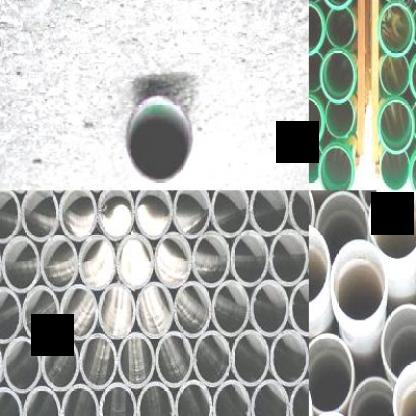pipe: (125, 94, 192, 186), (330, 240, 388, 324), (315, 192, 370, 268), (309, 333, 355, 414), (368, 190, 416, 262), (380, 302, 416, 379), (230, 230, 269, 288), (270, 330, 309, 387), (269, 229, 308, 286), (193, 330, 231, 387), (22, 286, 60, 342), (174, 282, 212, 338), (212, 280, 250, 336), (2, 236, 40, 292), (192, 232, 230, 288), (80, 333, 117, 390), (377, 2, 415, 57), (155, 332, 193, 387), (154, 233, 192, 288), (4, 336, 41, 392), (42, 335, 79, 391), (232, 330, 269, 386), (60, 284, 97, 340), (117, 334, 155, 388), (98, 284, 136, 338), (137, 283, 174, 338), (41, 235, 78, 290), (116, 234, 153, 289), (320, 48, 356, 104), (348, 376, 398, 416), (251, 282, 288, 336), (379, 100, 415, 155), (79, 235, 115, 290), (59, 191, 97, 242), (21, 191, 58, 242), (135, 191, 173, 240), (98, 190, 135, 240), (250, 190, 288, 237), (174, 190, 211, 238), (318, 142, 354, 191), (212, 190, 249, 237), (309, 224, 330, 306), (174, 379, 212, 416), (251, 379, 289, 416), (392, 360, 416, 416), (213, 380, 250, 416), (136, 381, 173, 416), (0, 287, 22, 343), (61, 384, 99, 416), (99, 384, 136, 416), (380, 56, 409, 96), (325, 98, 354, 138), (357, 190, 414, 210), (326, 8, 355, 47), (0, 191, 21, 244), (289, 280, 309, 335), (24, 386, 60, 416), (381, 152, 409, 190), (289, 190, 309, 236), (309, 94, 323, 150), (309, 1, 323, 55), (290, 379, 308, 416), (0, 388, 23, 416), (309, 51, 322, 91), (309, 144, 322, 184), (408, 47, 416, 104), (408, 144, 416, 190), (320, 0, 355, 9), (412, 5, 416, 49), (412, 101, 416, 141)
